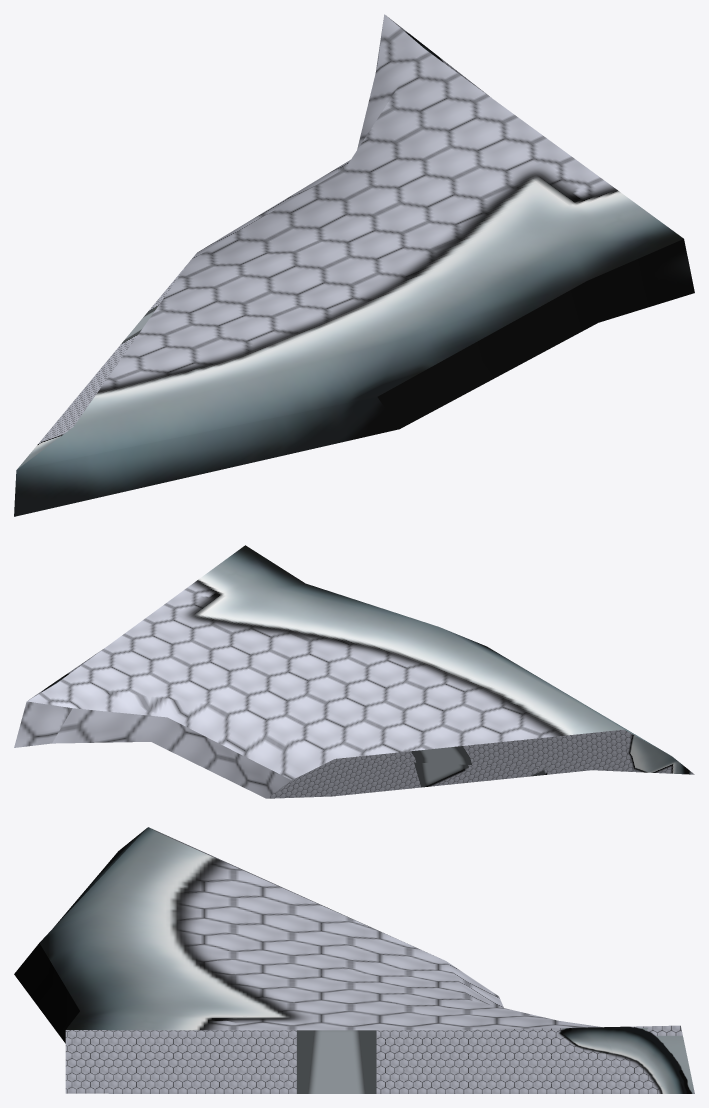
Rendered from StarfighterDestructionPart4.fbx.
3 views of the same model, one above another, from view 1: azimuth 30°, elevation 25°; view 2: azimuth 150°, elevation 25°; view 3: azimuth 270°, elevation 25° (orthographic). The views are drawn at different scales.
Parts seen in each view (by area): view 1: polySurface1; view 2: polySurface1; view 3: polySurface1.
Boxes of the visible parts, bbox=[...] form: polySurface1: bbox=[14, 14, 694, 516]; polySurface1: bbox=[14, 545, 694, 798]; polySurface1: bbox=[14, 827, 694, 1093].
Bounding box in the file's own units: 4.62 × 0.973 × 4.06.
1 material, 1 textured.
